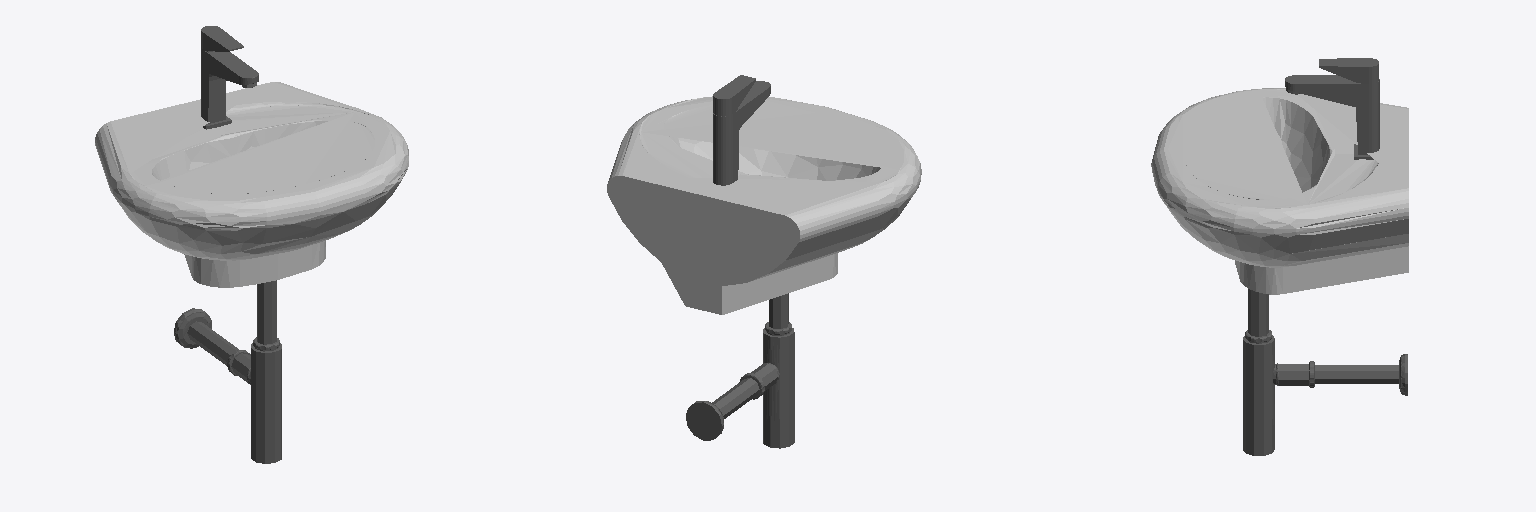
Rendered from wastafel.obj.
3 views of the same model, side by side, from view 1: azimuth 30°, elevation 25°; view 2: azimuth 150°, elevation 25°; view 3: azimuth 270°, elevation 25° (orthographic).
Parts seen in each view (by area): view 1: WC.basin.001; view 2: WC.basin.001; view 3: WC.basin.001.
Part boxes in pixels (bbox=[...]): WC.basin.001: bbox=[95, 26, 408, 463]; WC.basin.001: bbox=[607, 75, 921, 448]; WC.basin.001: bbox=[1151, 58, 1408, 455].
Size of the model in its own units: 0.4836 by 0.656 by 0.3955.